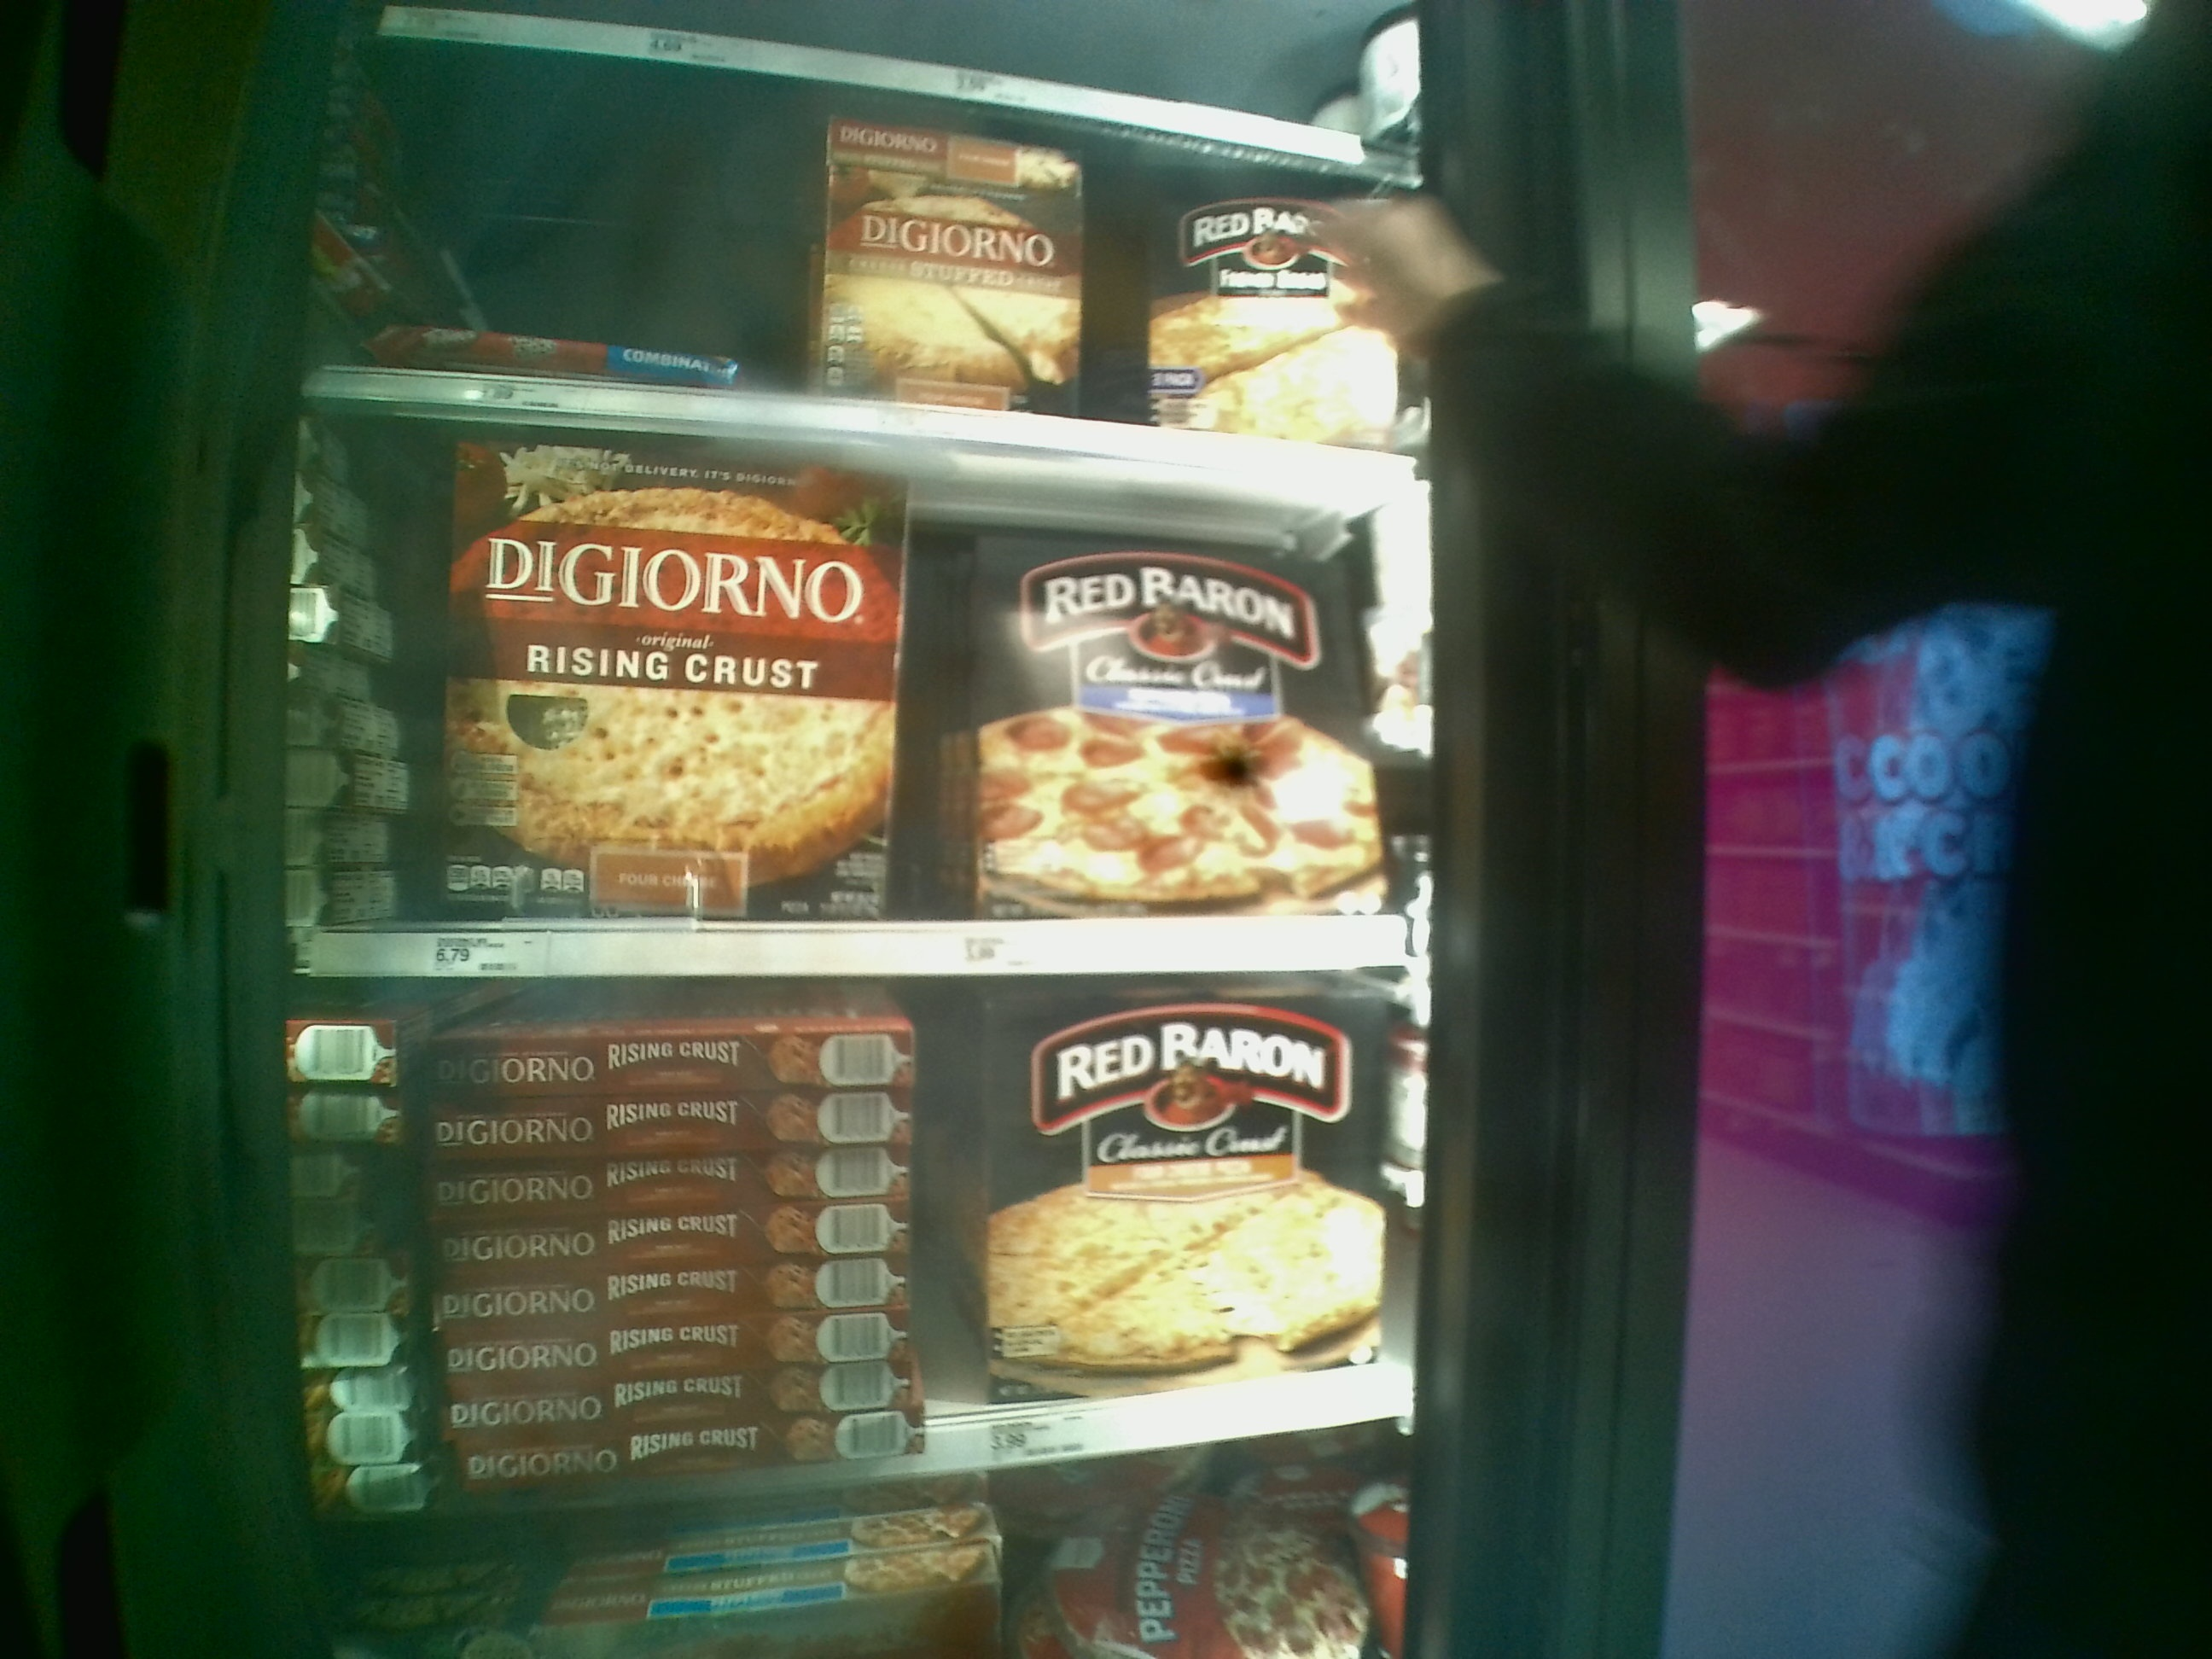shelf: (296, 394, 1418, 981), (317, 962, 1423, 1554)
